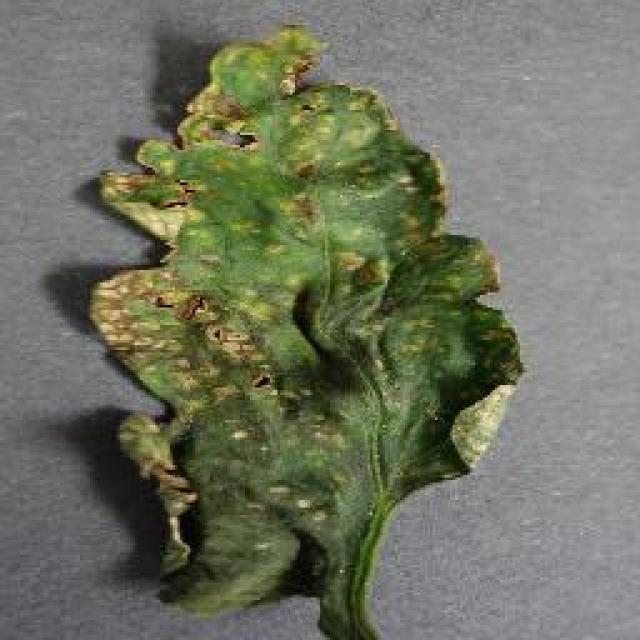Tomato bacterial spot leaf: (84, 17, 534, 620)
